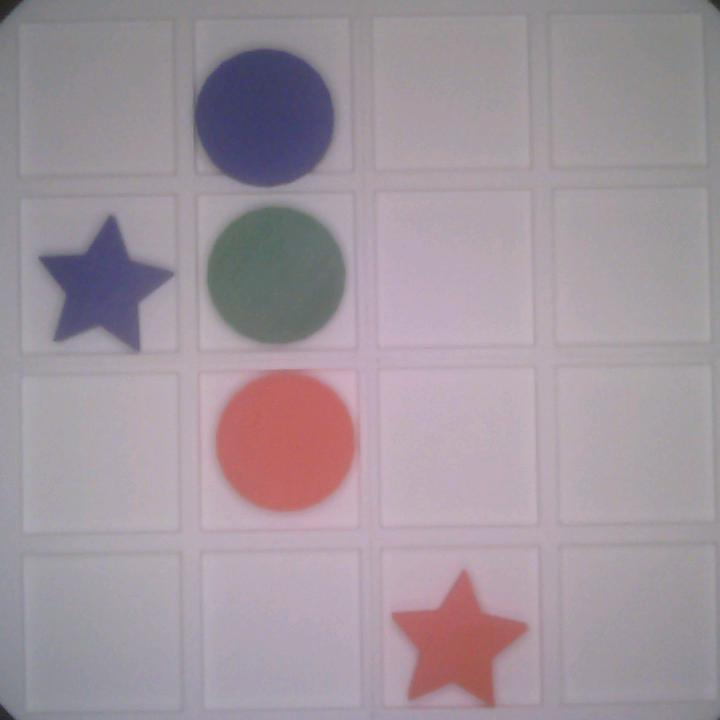Blue circle: (197, 46, 336, 189)
Blue star: (30, 209, 170, 353)
Green circle: (200, 203, 343, 351)
Orange circle: (214, 373, 356, 516)
Orange star: (387, 568, 532, 708)
